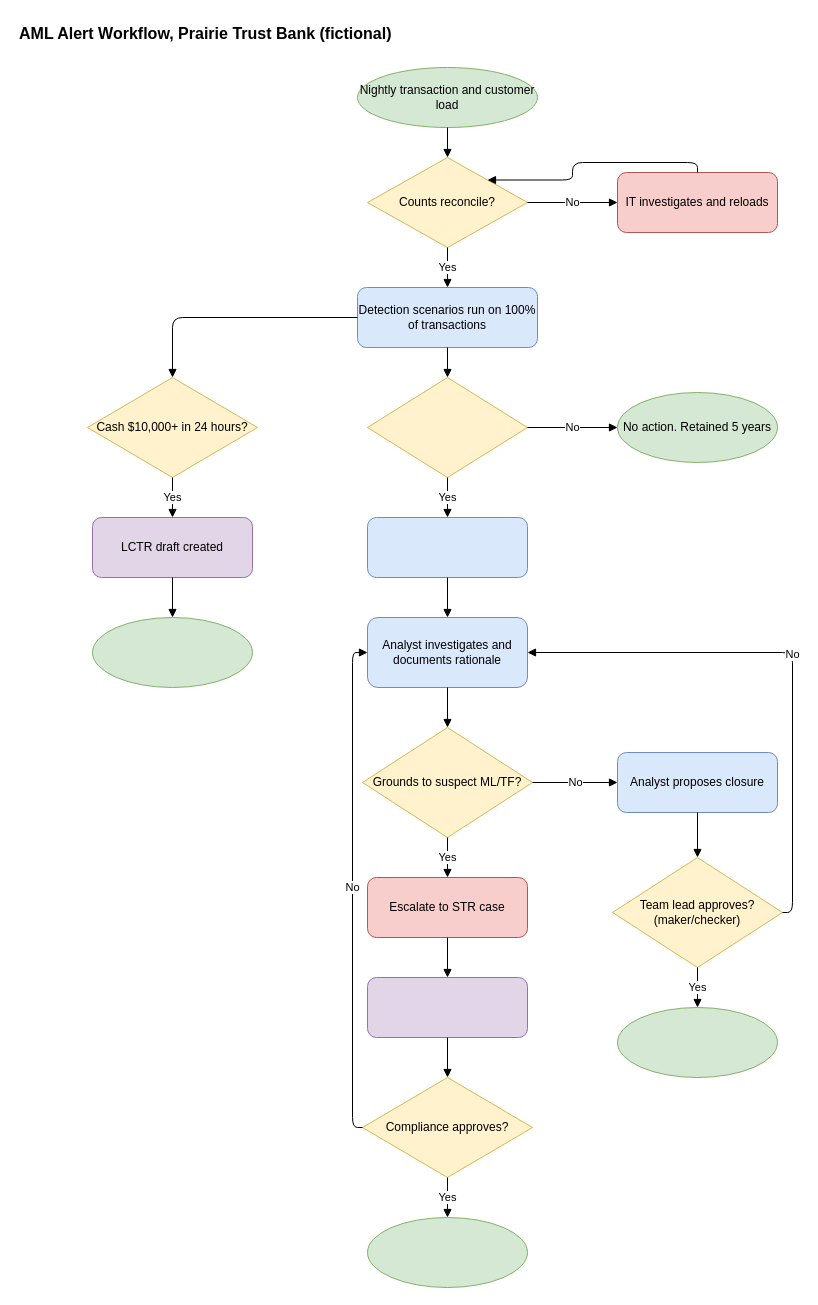
This 818x1305 diagram has some shape labels left out. Here are the shapes that lost their labels. From the top down, the centre of each, then its label:
At point (447, 427): "Scenario triggered?".
At point (447, 547): "Alert risk scored and queued".
At point (172, 652): "Reporting officer files within 15 calendar days".
At point (447, 1007): "STR drafted from case data".
At point (697, 1042): "Alert closed. Retained 5 years".
At point (447, 1252): "STR submitted to FINTRAC as soon as practicable".
